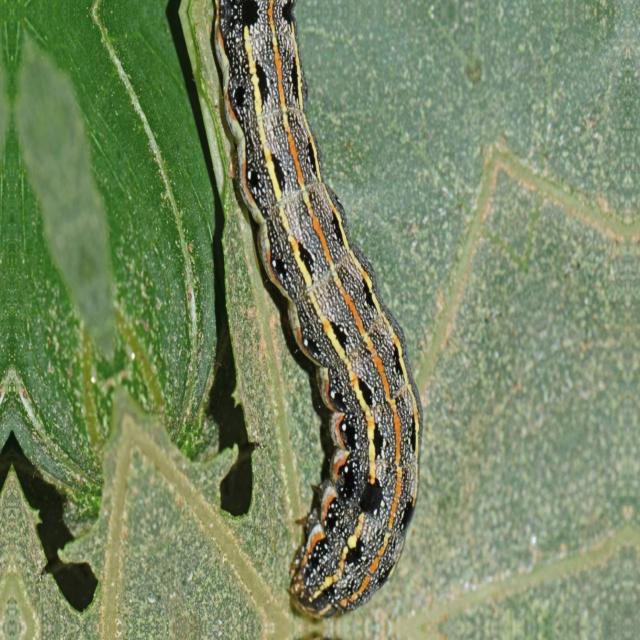Armyworm_damage: (197, 1, 458, 624)
